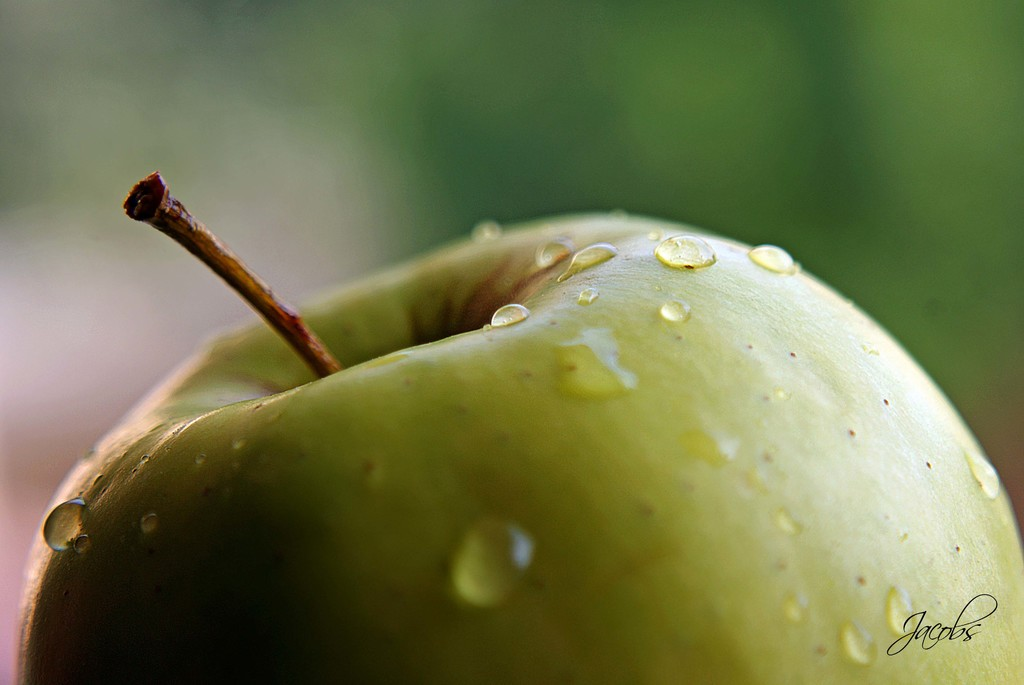Apple: (129, 182, 986, 685)
